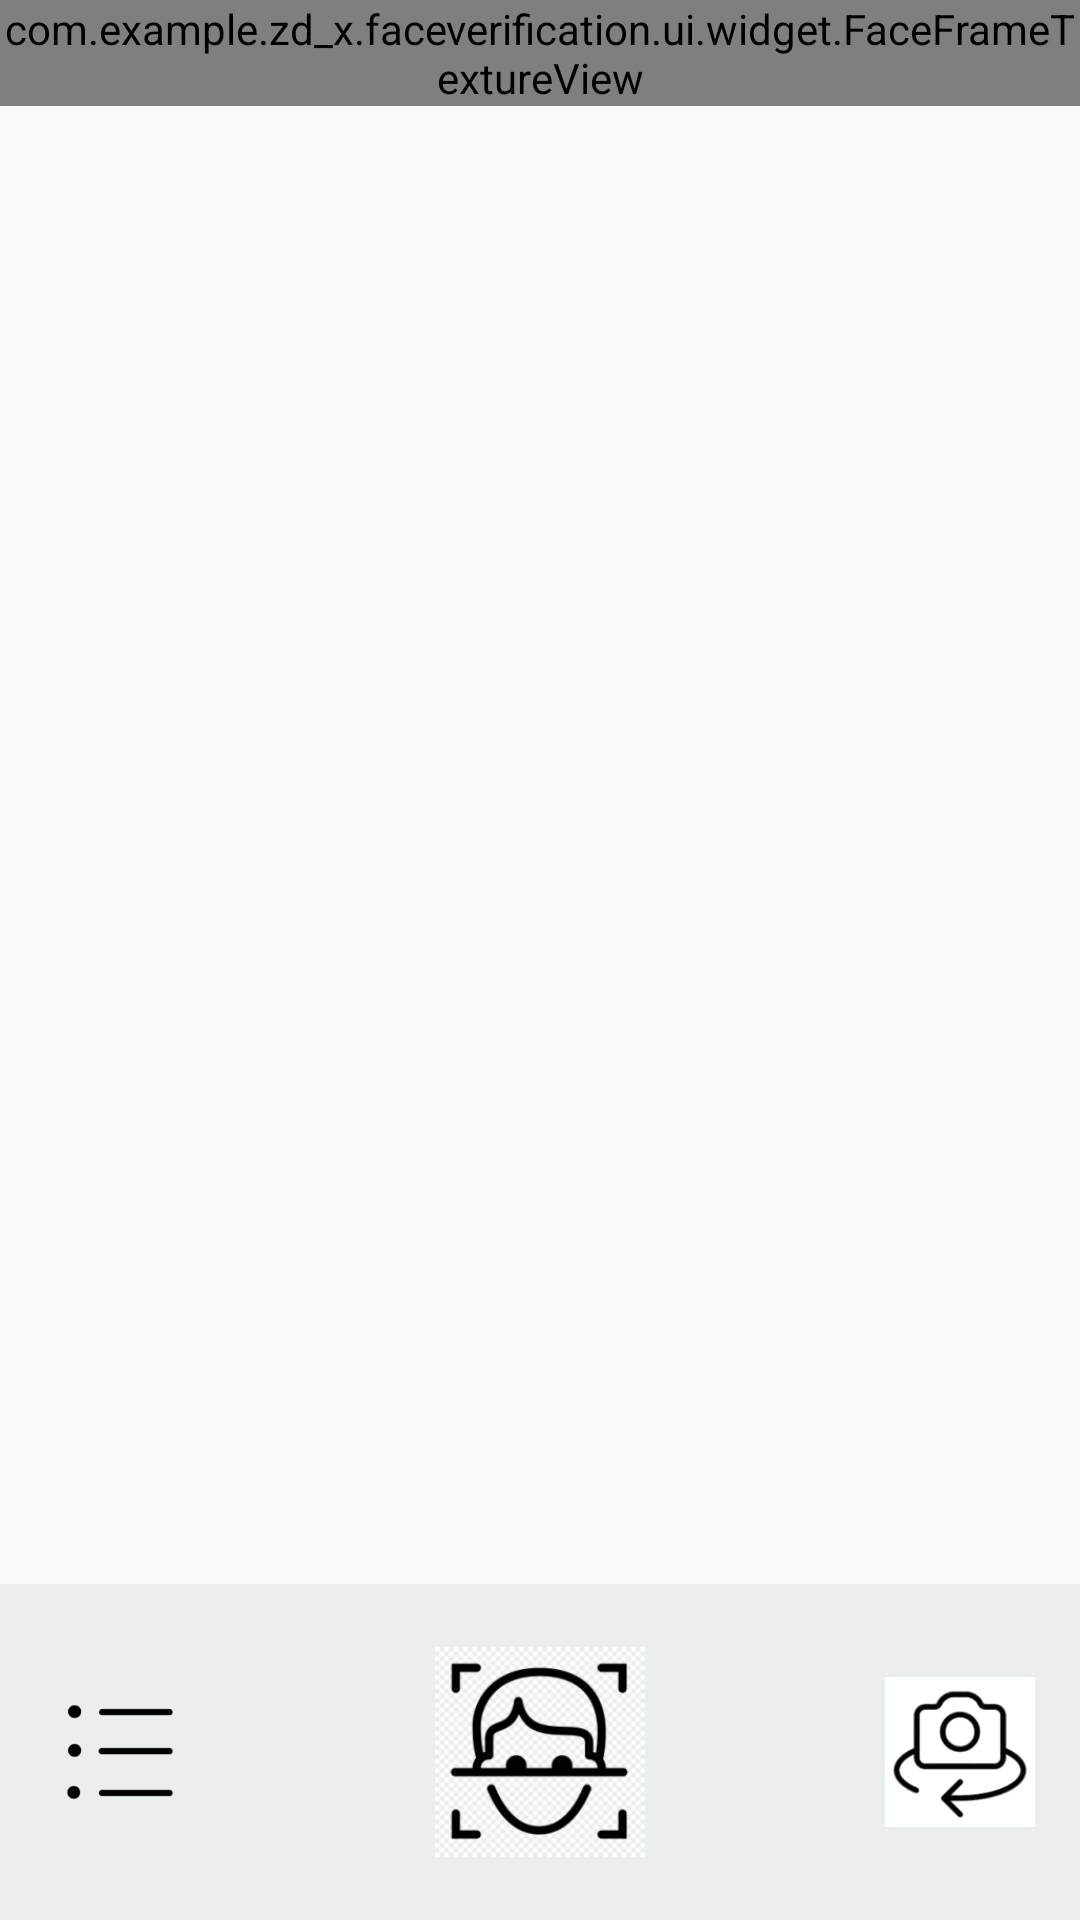

Icon click points for this 1080w x 1920h phone screenshot, format [x,y]:
recog middle: [540,1752]
